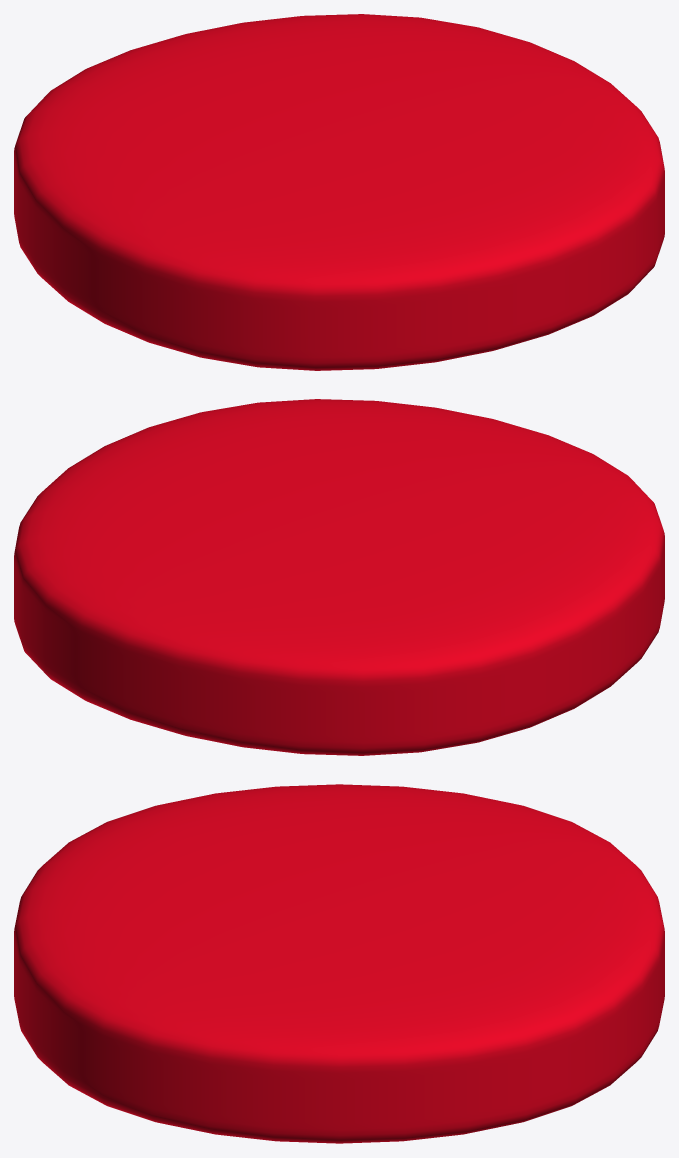
File: tomate.glb
3 views of the same model, one above another, from view 1: azimuth 30°, elevation 25°; view 2: azimuth 150°, elevation 25°; view 3: azimuth 270°, elevation 25° (orthographic). The views are drawn at different scales.
Parts seen in each view (by area): view 1: Tomate; view 2: Tomate; view 3: Tomate.
Part boxes in pixels (left/top/right/bottom): Tomate: left=14, top=14, right=664, bottom=370; Tomate: left=14, top=399, right=664, bottom=755; Tomate: left=14, top=784, right=664, bottom=1143.
Size of the model in its own units: 1.66 by 0.346 by 1.66.
